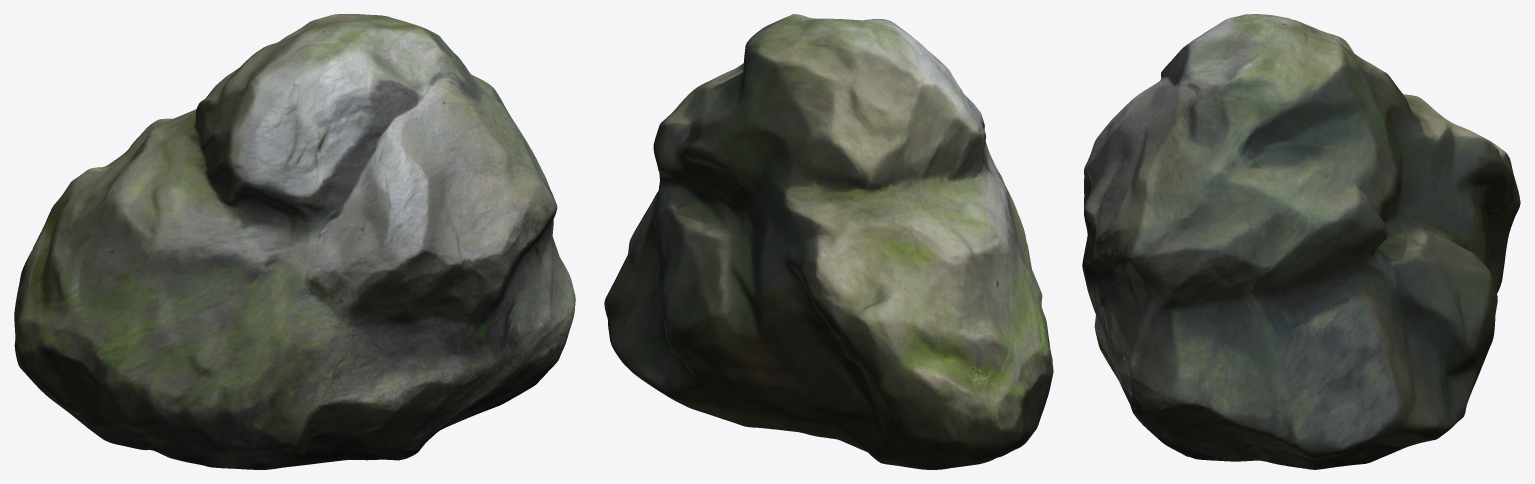
File: tree_b.glb
3 views of the same model, side by side, from view 1: azimuth 30°, elevation 25°; view 2: azimuth 150°, elevation 25°; view 3: azimuth 270°, elevation 25° (orthographic). The views are drawn at different scales.
Size of the model in its own units: 2 by 1.57 by 1.62.
Materials: 1 (1 with a texture image).
